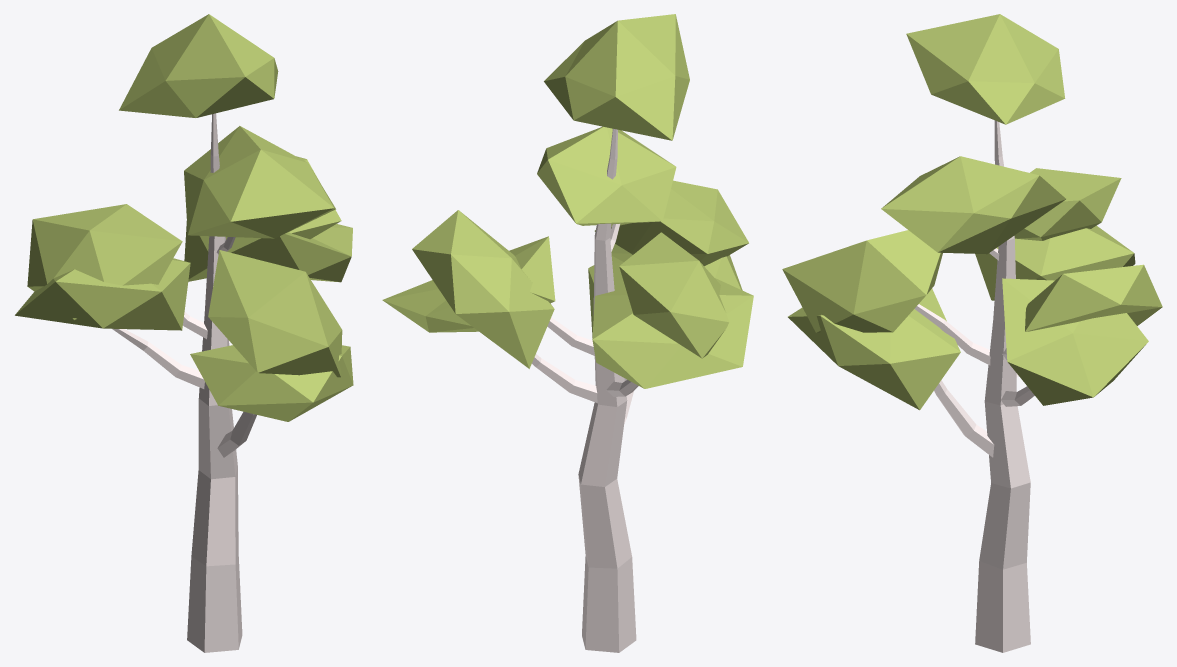
Rendered from Birch_008.fbx.
3 renders of one model, left to right at view 1: azimuth 30°, elevation 25°; view 2: azimuth 150°, elevation 25°; view 3: azimuth 270°, elevation 25°, orthographic.
Visible parts, largest first — view 1: Birch.008; view 2: Birch.008; view 3: Birch.008.
Part boxes in pixels (x1,y1,x2,y2): Birch.008: [15, 14, 353, 652]; Birch.008: [382, 14, 753, 652]; Birch.008: [782, 14, 1162, 652].
Size of the model in its own units: 3.81 by 6.52 by 3.62.
